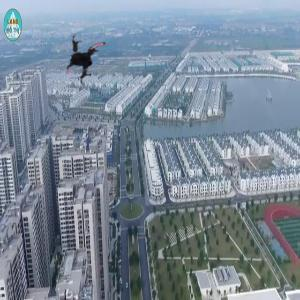drone: (60, 30, 119, 89)
